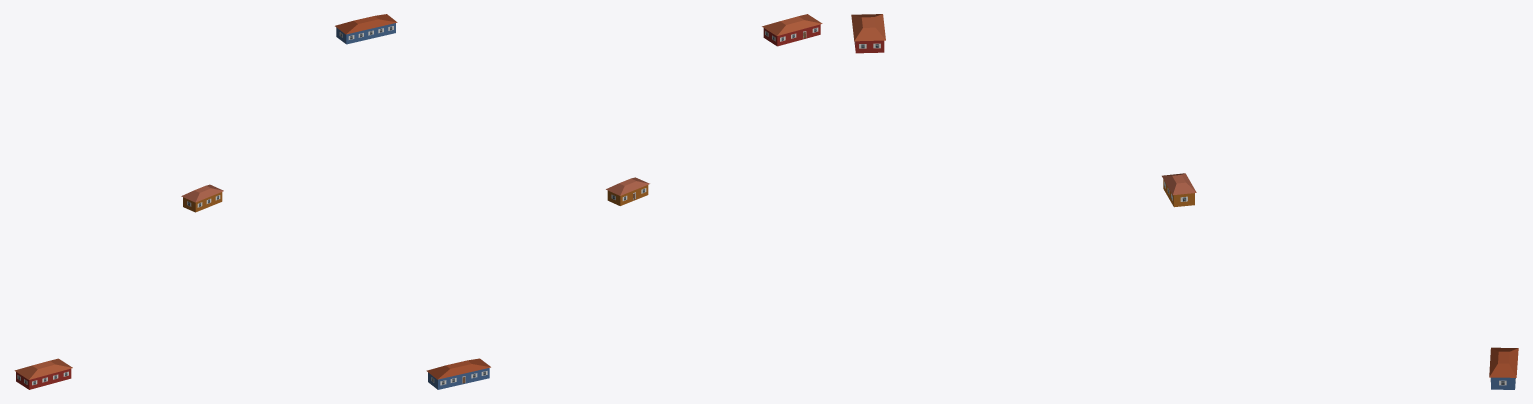
File: msb_sannicolas_22_21.glb
3 views of the same model, side by side, from view 1: azimuth 30°, elevation 25°; view 2: azimuth 210°, elevation 25°; view 3: azimuth 270°, elevation 25° (orthographic). The views are drawn at different scales.
Visible parts, largest first — view 1: msb_sannicolas_22_21_lod0; view 2: msb_sannicolas_22_21_lod0; view 3: msb_sannicolas_22_21_lod0.
Part boxes in pixels (left/top/right/bottom): msb_sannicolas_22_21_lod0: left=14, top=14, right=397, bottom=389; msb_sannicolas_22_21_lod0: left=426, top=14, right=822, bottom=389; msb_sannicolas_22_21_lod0: left=851, top=14, right=1518, bottom=389.
Size of what is drawn, in the model's own units: 218 by 8.07 by 166.
2 materials, 1 textured.
